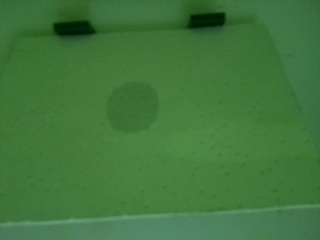Water_detected: (108, 82, 164, 137)
